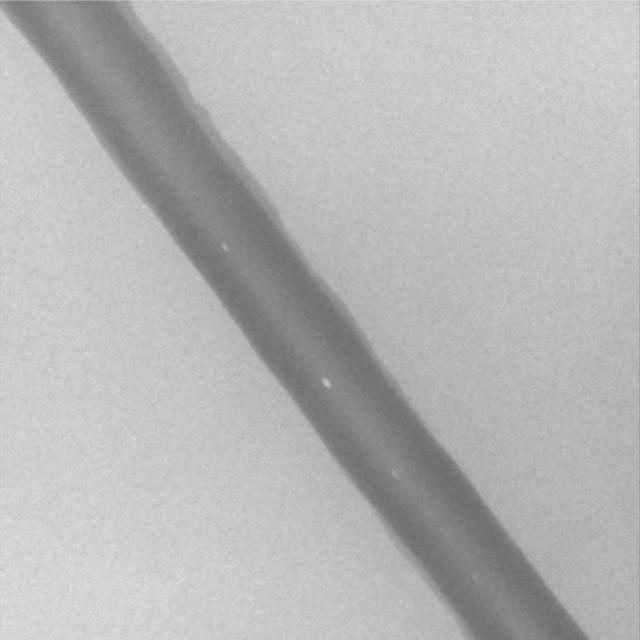air hole: (320, 376, 331, 388), (390, 467, 399, 478), (220, 243, 228, 253)
